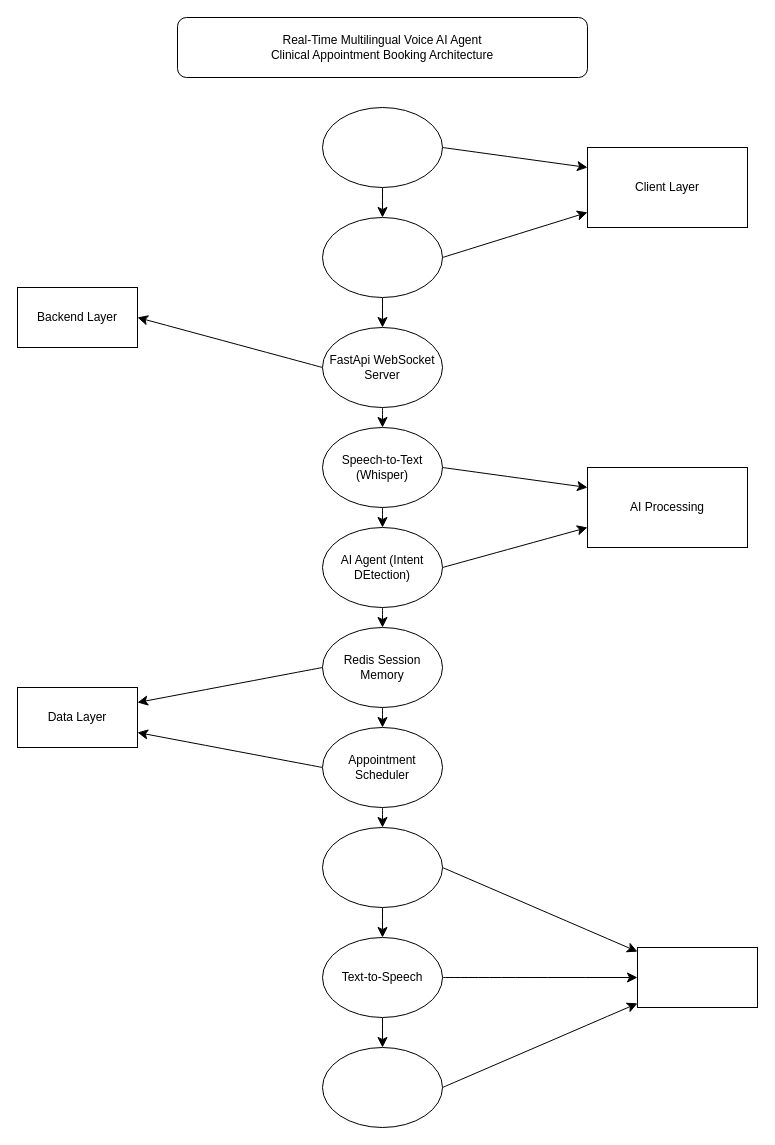
Image size: 775x1145. Some labels were removed from this diagram. Here are the shapes that lost their labels. From the top down, the box of each, then its label:
(322, 106, 442, 188): User Voice
(322, 216, 442, 298): WebSocket Client
(322, 826, 442, 908): Text Response Generation
(636, 946, 758, 1008): Response Layer
(322, 1046, 442, 1128): Voice Response
